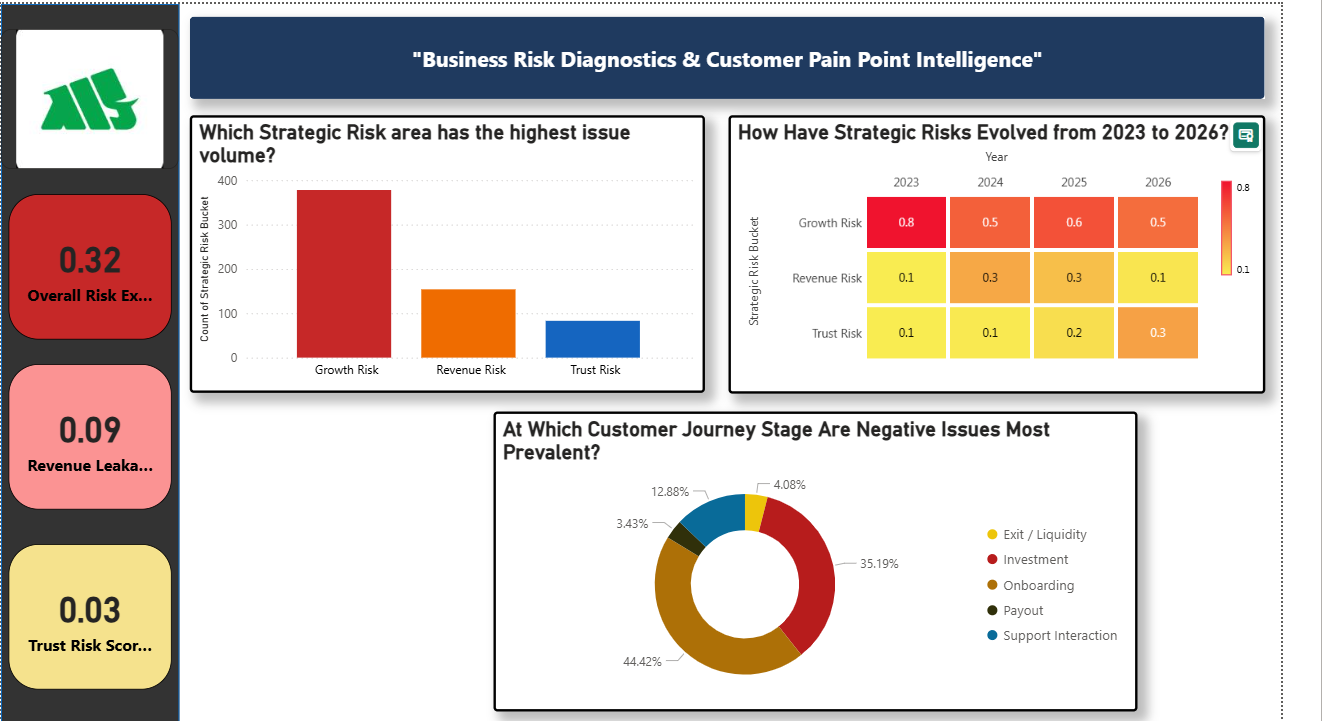

The dashboard page shown, as its layout file describes it:
{"tool":"powerbi","page":{"name":"Page 2","canvas":[1280,720],"ordinal":1},"visuals":[{"type":"shape","box":[188.8,12.5,1075,82.5],"z":0},{"type":"shape","box":[0,0,178.4,720.4],"z":1000},{"type":"textbox","box":[216.8,522.8,919.4,112.5],"z":2000},{"type":"image","box":[0,25,177.5,140],"z":3000},{"type":"card","fields":{"Values":["Customer_Sentiment_Master.Trust Risk Score %"]},"box":[7.1,540,162.9,145.7],"z":4000},{"type":"card","fields":{"Values":["Customer_Sentiment_Master.Revenue Leakage %"]},"box":[7.1,360,162.9,145.7],"z":5000},{"type":"clusteredColumnChart","title":"Which Strategic Risk area has the highest issue volume?","fields":{"Category":["Customer_Sentiment_Master.Strategic Risk Bucket"],"Y":["CountNonNull(Customer_Sentiment_Master.Strategic Risk Bucket)"]},"box":[188.9,111.1,515.6,277.8],"z":6000},{"type":"HeatMap67B54F74B5374B9EA95AC568DC37B14C","title":"How Have Strategic Risks Evolved from 2023 to 2026?","fields":{"yAxis":["Customer_Sentiment_Master.Strategic Risk Bucket"],"xAxis":["Customer_Sentiment_Master.Year"],"tooltip":["Customer_Sentiment_Master.Total Negative Issues"],"Value":["Customer_Sentiment_Master.Negative % by Year"]},"box":[727,111,537,278],"z":7000},{"type":"card","fields":{"Values":["Customer_Sentiment_Master.Overall Risk Exposure %"]},"box":[7.1,190,162.9,145.7],"z":8000},{"type":"donutChart","title":"At Which Customer Journey Stage Are Negative Issues Most Prevalent?","fields":{"Category":["Customer_Sentiment_Master.Customer Journey Stage"],"Y":["Customer_Sentiment_Master.Negative Issues","Customer_Sentiment_Master.Negative Count"]},"box":[492.5,407.5,643.8,300],"z":9000}]}

Visuals, with their boxes on the page's 1280x720 design canvas (x1, y1, x2, y2). These are canvas units, not pixel positions in the 1326x721 screenshot, which may show the page scaled, cropped or inside an application window:
shape: [x1=189, y1=12, x2=1264, y2=95]
shape: [x1=0, y1=0, x2=178, y2=720]
textbox: [x1=217, y1=523, x2=1136, y2=635]
image: [x1=0, y1=25, x2=178, y2=165]
card - Customer_Sentiment_Master.Trust Risk Score %: [x1=7, y1=540, x2=170, y2=686]
card - Customer_Sentiment_Master.Revenue Leakage %: [x1=7, y1=360, x2=170, y2=506]
"Which Strategic Risk area has the highest issue volume?" clusteredColumnChart: [x1=189, y1=111, x2=704, y2=389]
"How Have Strategic Risks Evolved from 2023 to 2026?" HeatMap67B54F74B5374B9EA95AC568DC37B14C: [x1=727, y1=111, x2=1264, y2=389]
card - Customer_Sentiment_Master.Overall Risk Exposure %: [x1=7, y1=190, x2=170, y2=336]
"At Which Customer Journey Stage Are Negative Issues Most Prevalent?" donutChart: [x1=492, y1=408, x2=1136, y2=708]
